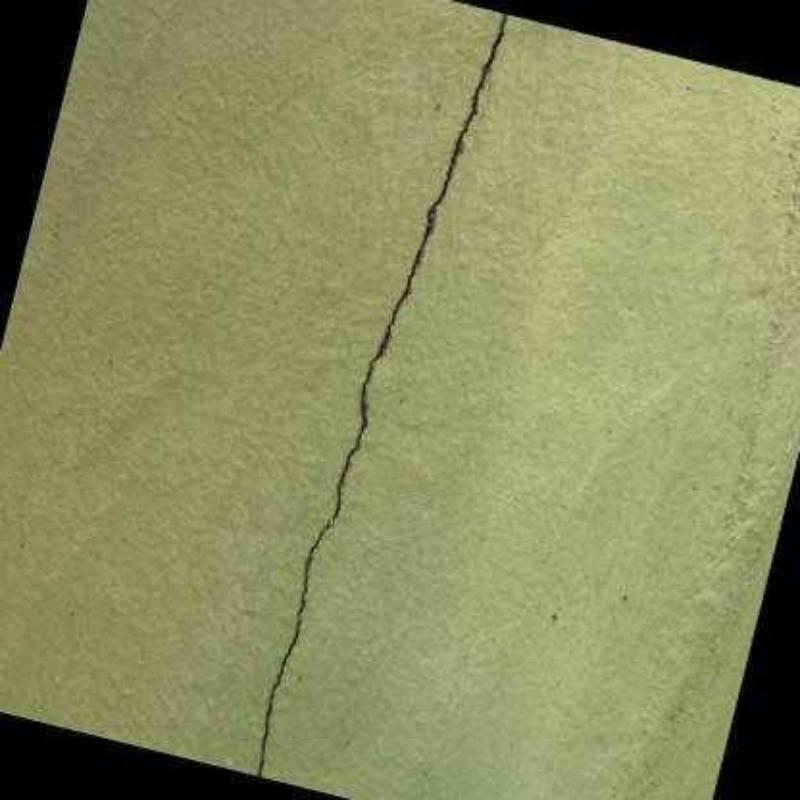pothole: (252, 12, 513, 779)
